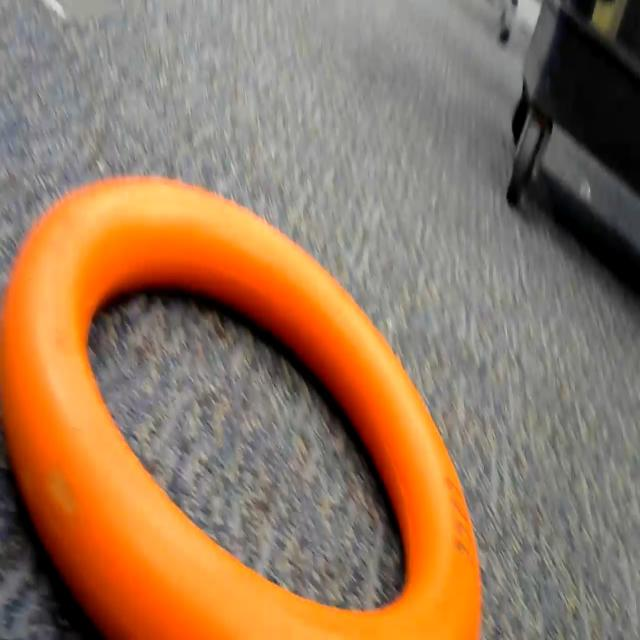note: (0, 131, 498, 640)
